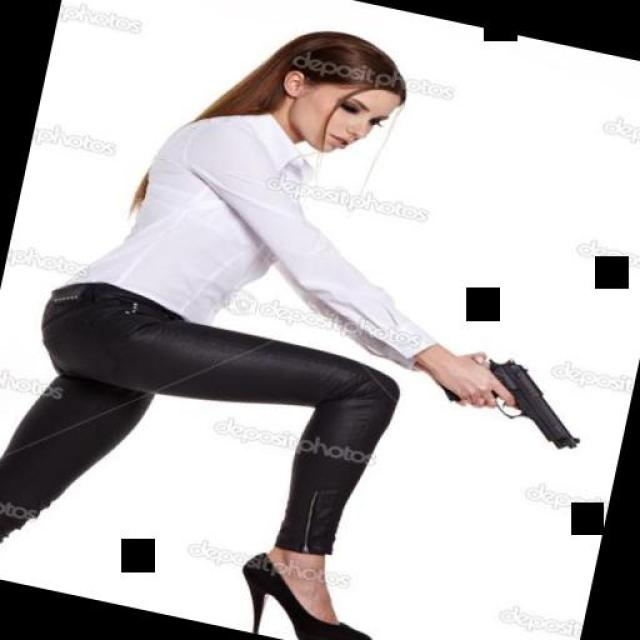gun: (442, 342, 598, 448)
